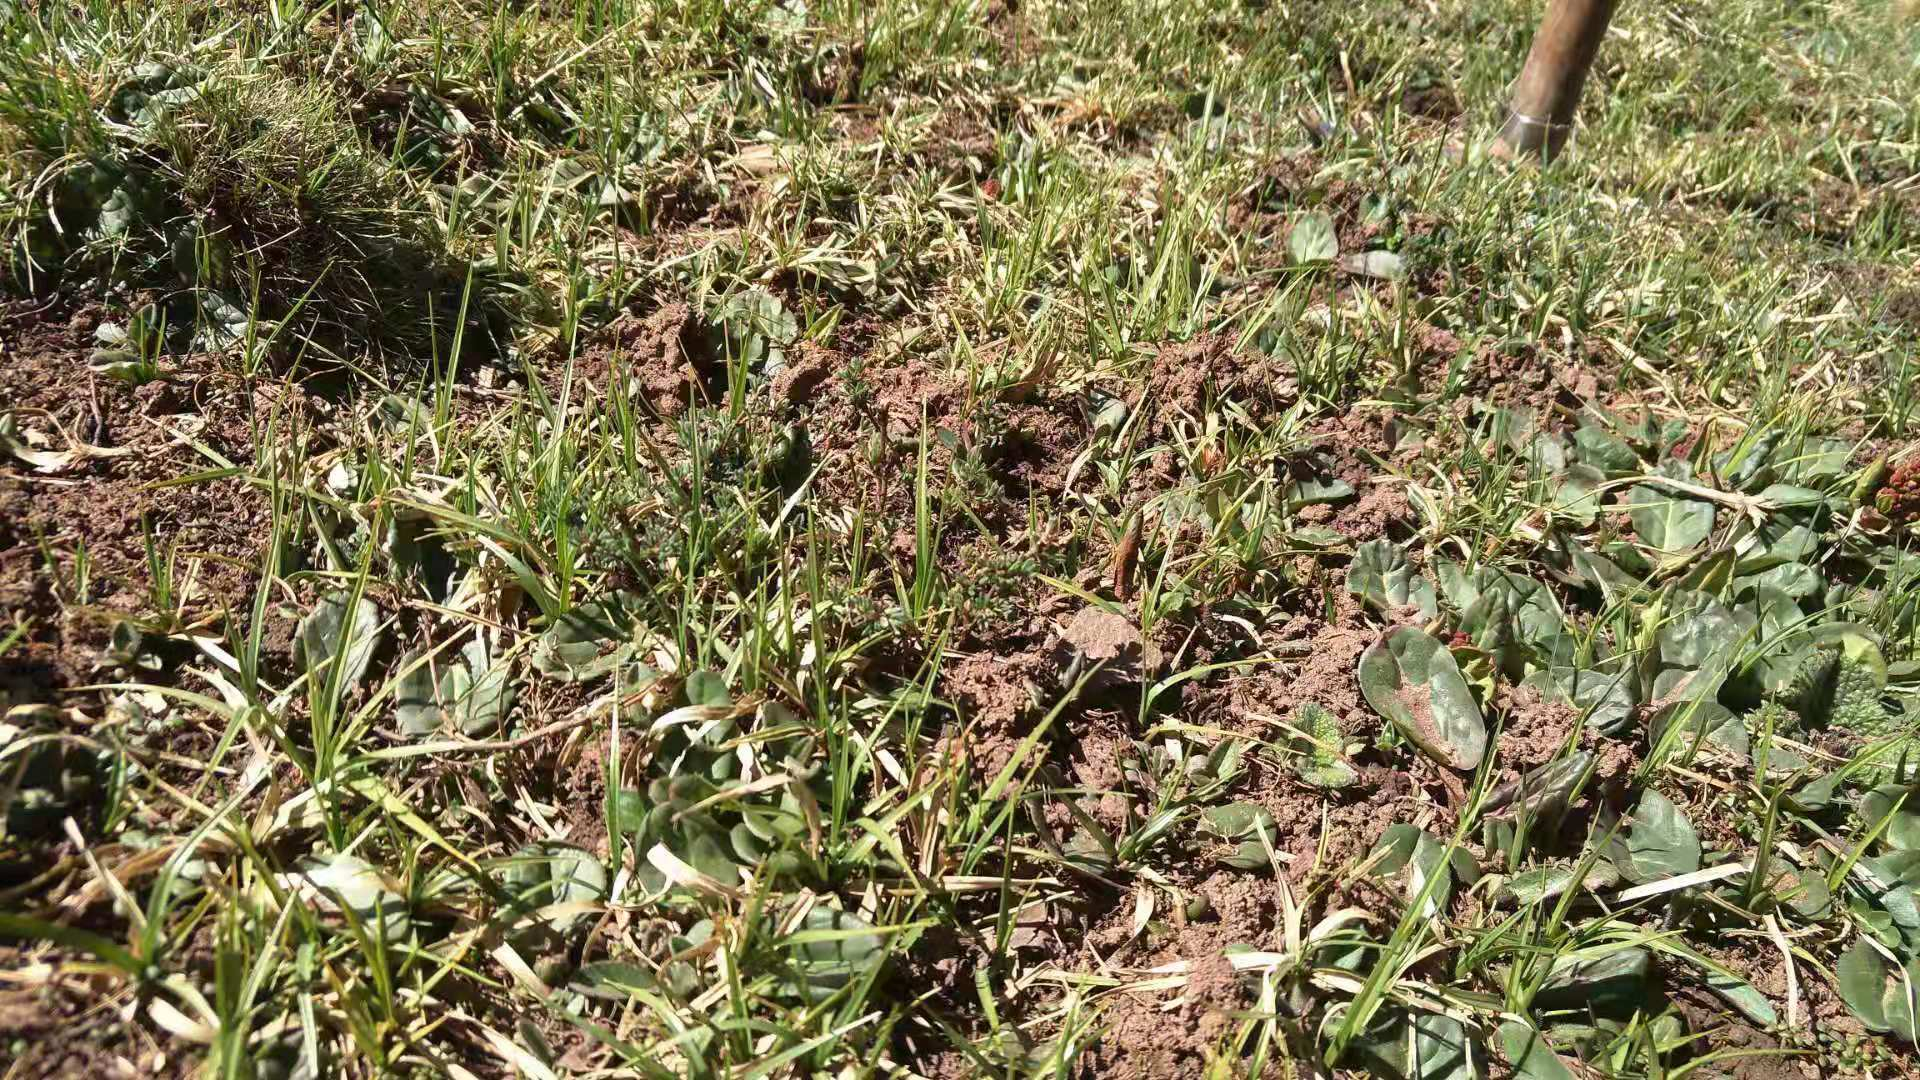Chongcao: (1112, 508, 1145, 601)
